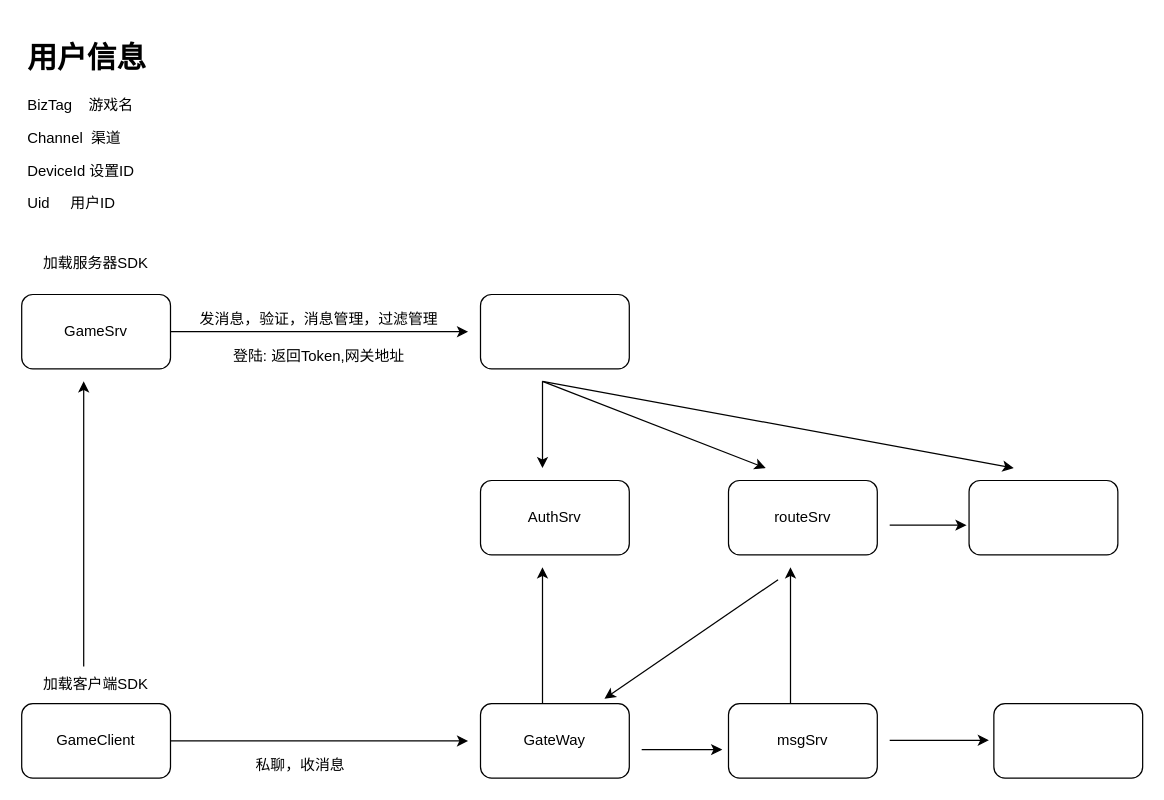
The diagram is 1164 pixels wide and 800 high, and some of its shapes have lost their labels. The box of each missing label's shape, as (x1, y1, x2, y2) in pixels:
gidSrv: (993, 702, 1143, 778)
IMSrv: (479, 293, 629, 369)
userSrv: (968, 479, 1118, 555)
